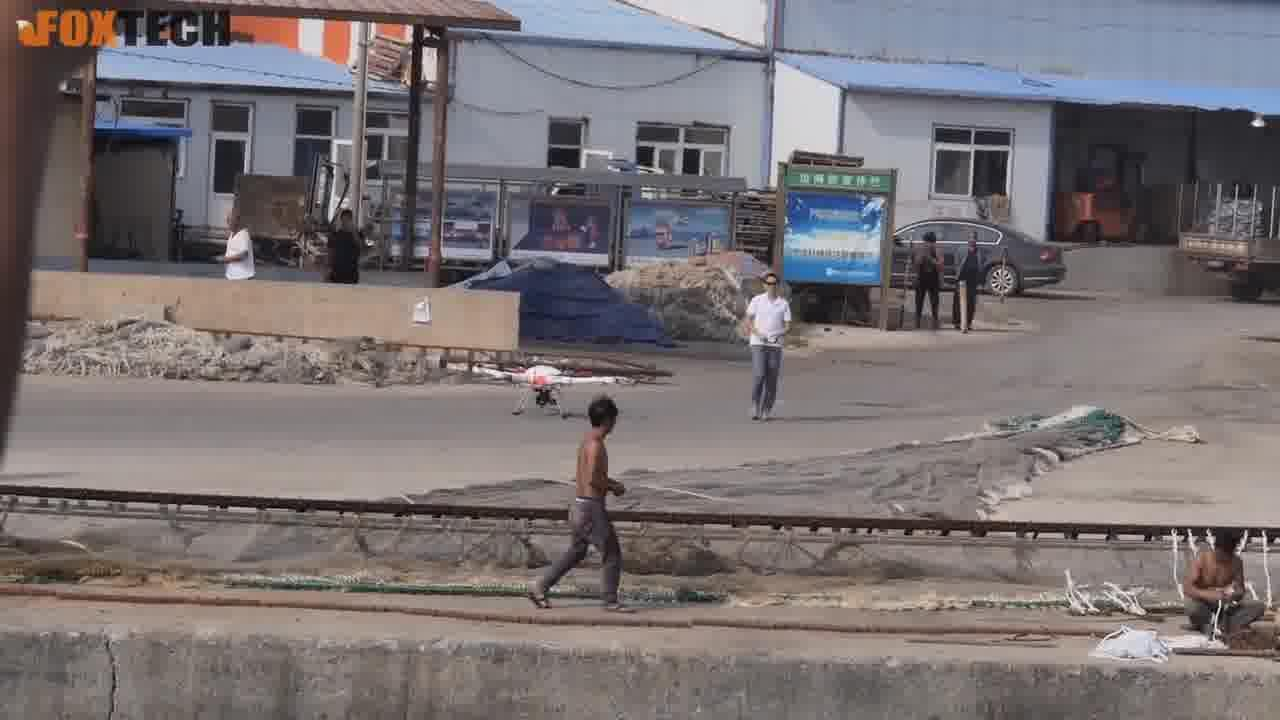Drone: (456, 352, 642, 424)
